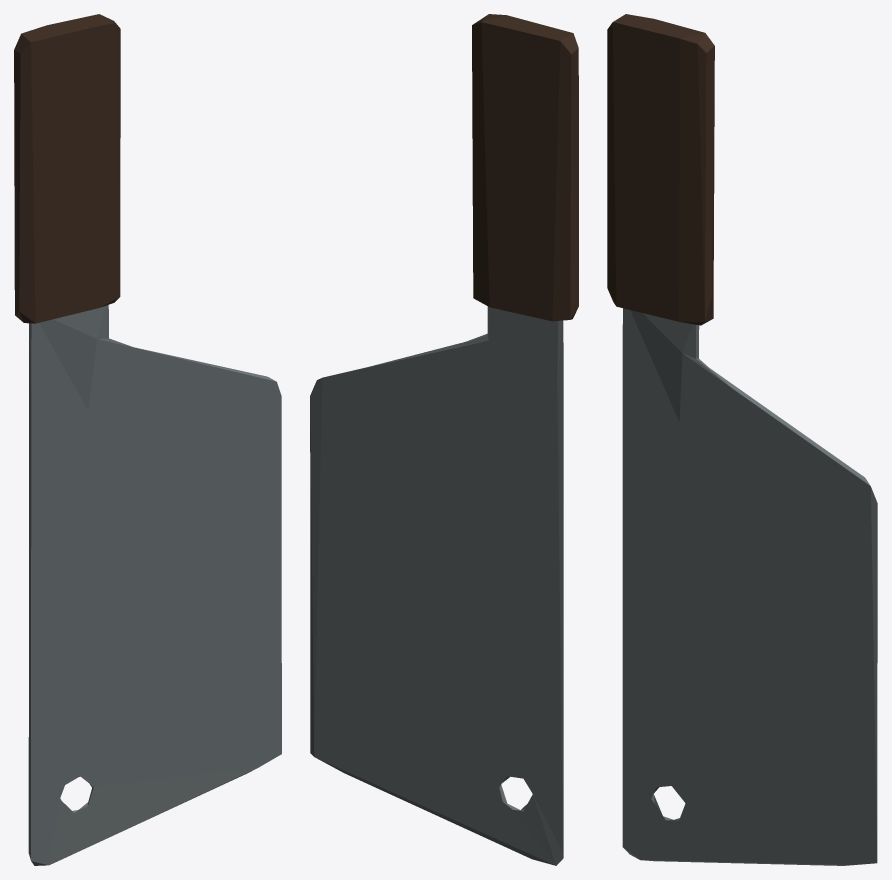
The model's file is Cleaver.fbx.
3 renders of one model, left to right at view 1: azimuth 30°, elevation 25°; view 2: azimuth 150°, elevation 25°; view 3: azimuth 330°, elevation 25°, orthographic.
Parts seen in each view (by area): view 1: CleaverLowPoly; view 2: CleaverLowPoly; view 3: CleaverLowPoly.
Part boxes in pixels (x1=…): CleaverLowPoly: x1=14, y1=14, x2=281, y2=865; CleaverLowPoly: x1=310, y1=14, x2=578, y2=865; CleaverLowPoly: x1=607, y1=14, x2=877, y2=865.
Bounding box in the file's own units: 9.29 × 27.82 × 0.8162.
